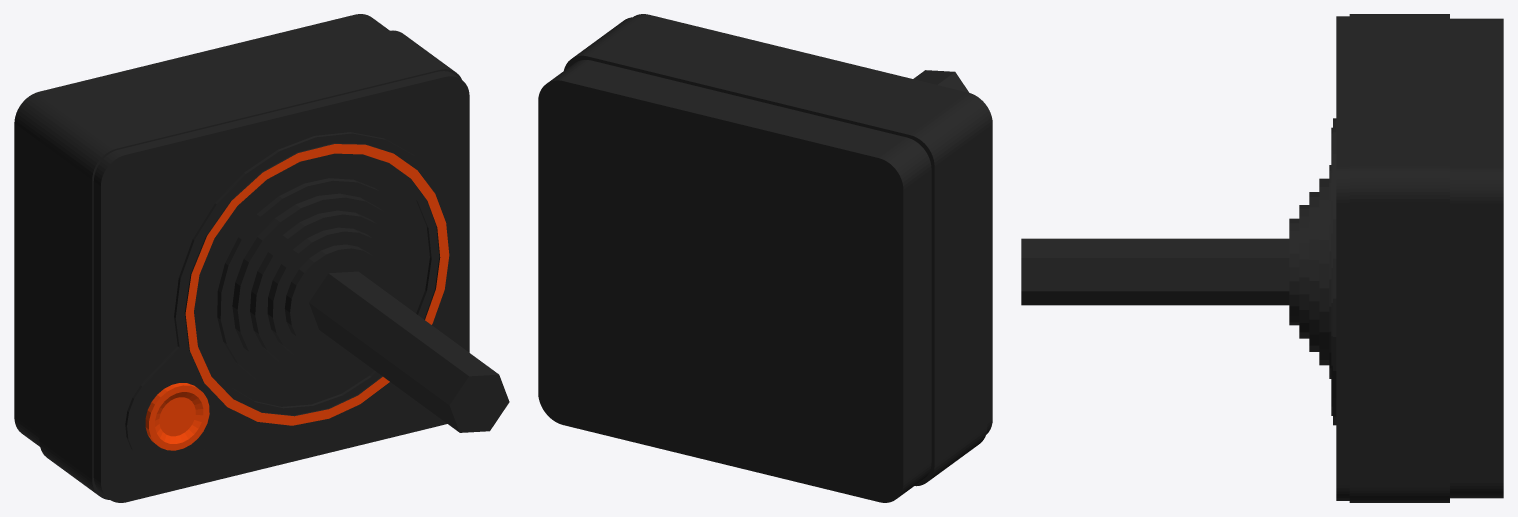
The picture shows the model from 3 angles, left to right: view 1: azimuth 30°, elevation 25°; view 2: azimuth 150°, elevation 25°; view 3: azimuth 270°, elevation 25°; orthographic projection. The views are drawn at different scales.
Parts seen in each view (by area): view 1: atari joystick controller; view 2: atari joystick controller; view 3: atari joystick controller.
Part boxes in pixels (x1=…): atari joystick controller: x1=14, y1=14, x2=509, y2=502; atari joystick controller: x1=538, y1=14, x2=992, y2=502; atari joystick controller: x1=1021, y1=14, x2=1503, y2=502.
Bounding box in the file's own units: 3.81 × 3.44 × 4.5.
